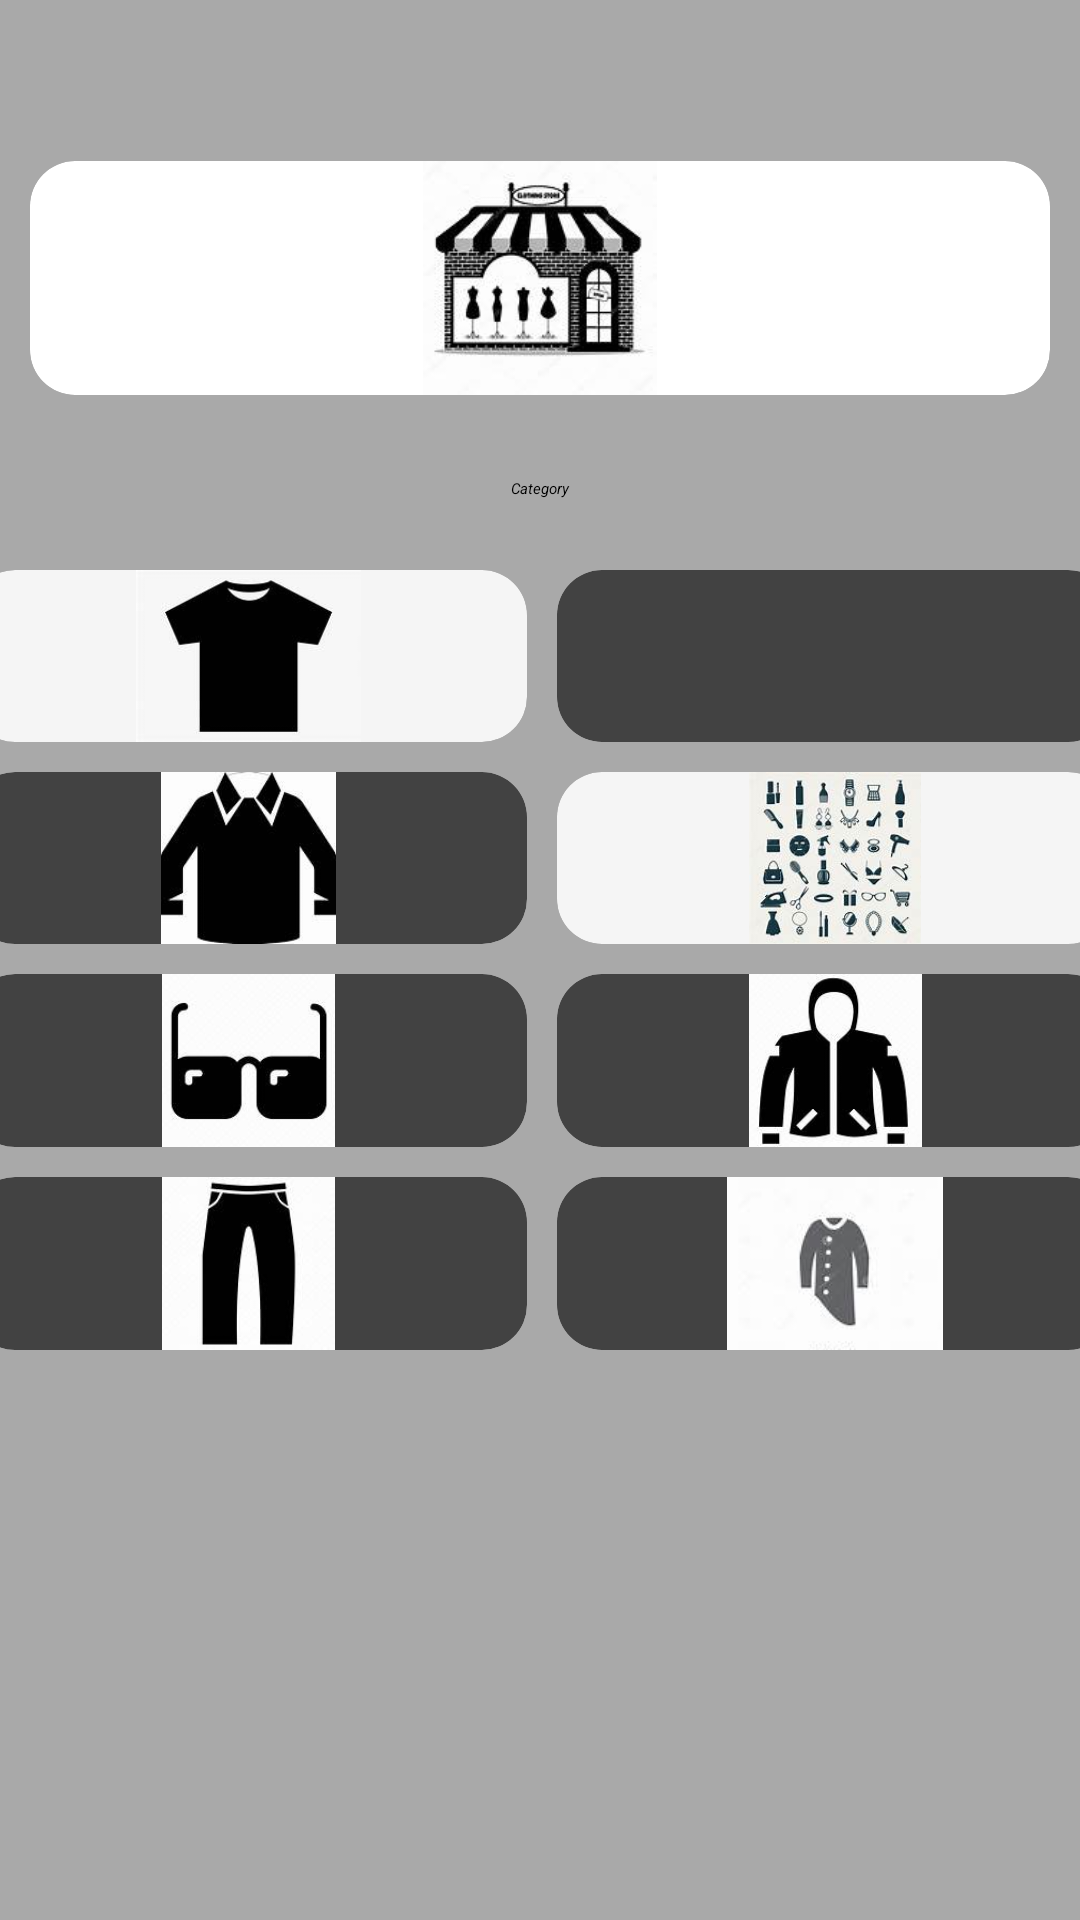

Named icons in this screenshot (1080 x 1920) and their bounding boxes, {"x1": x1, "y1": y1, "x2": x2, "y2": y2}:
accessoriesicon: {"x1": 749, "y1": 772, "x2": 921, "y2": 944}
